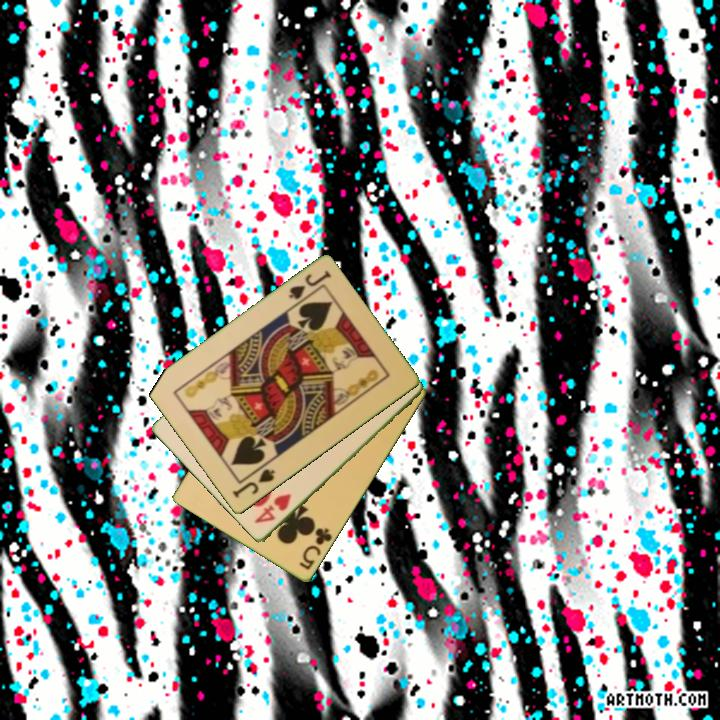4h: (251, 490, 294, 527)
5c: (296, 525, 335, 573)
Js: (229, 465, 278, 502), (285, 267, 334, 303)
